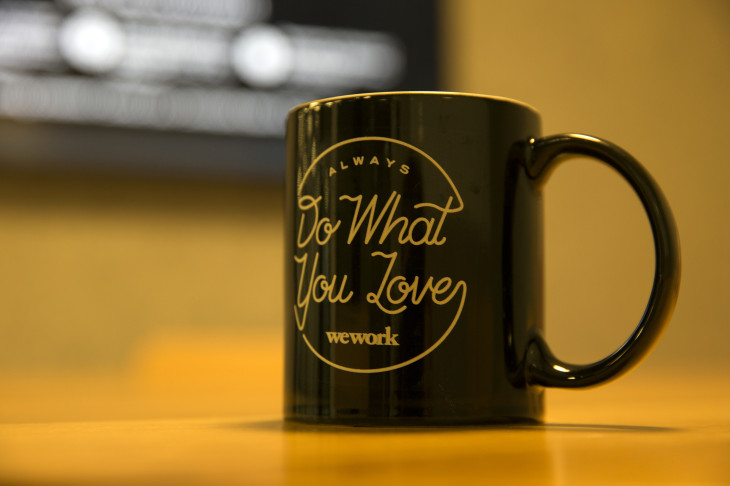wework: (322, 323, 402, 349)
